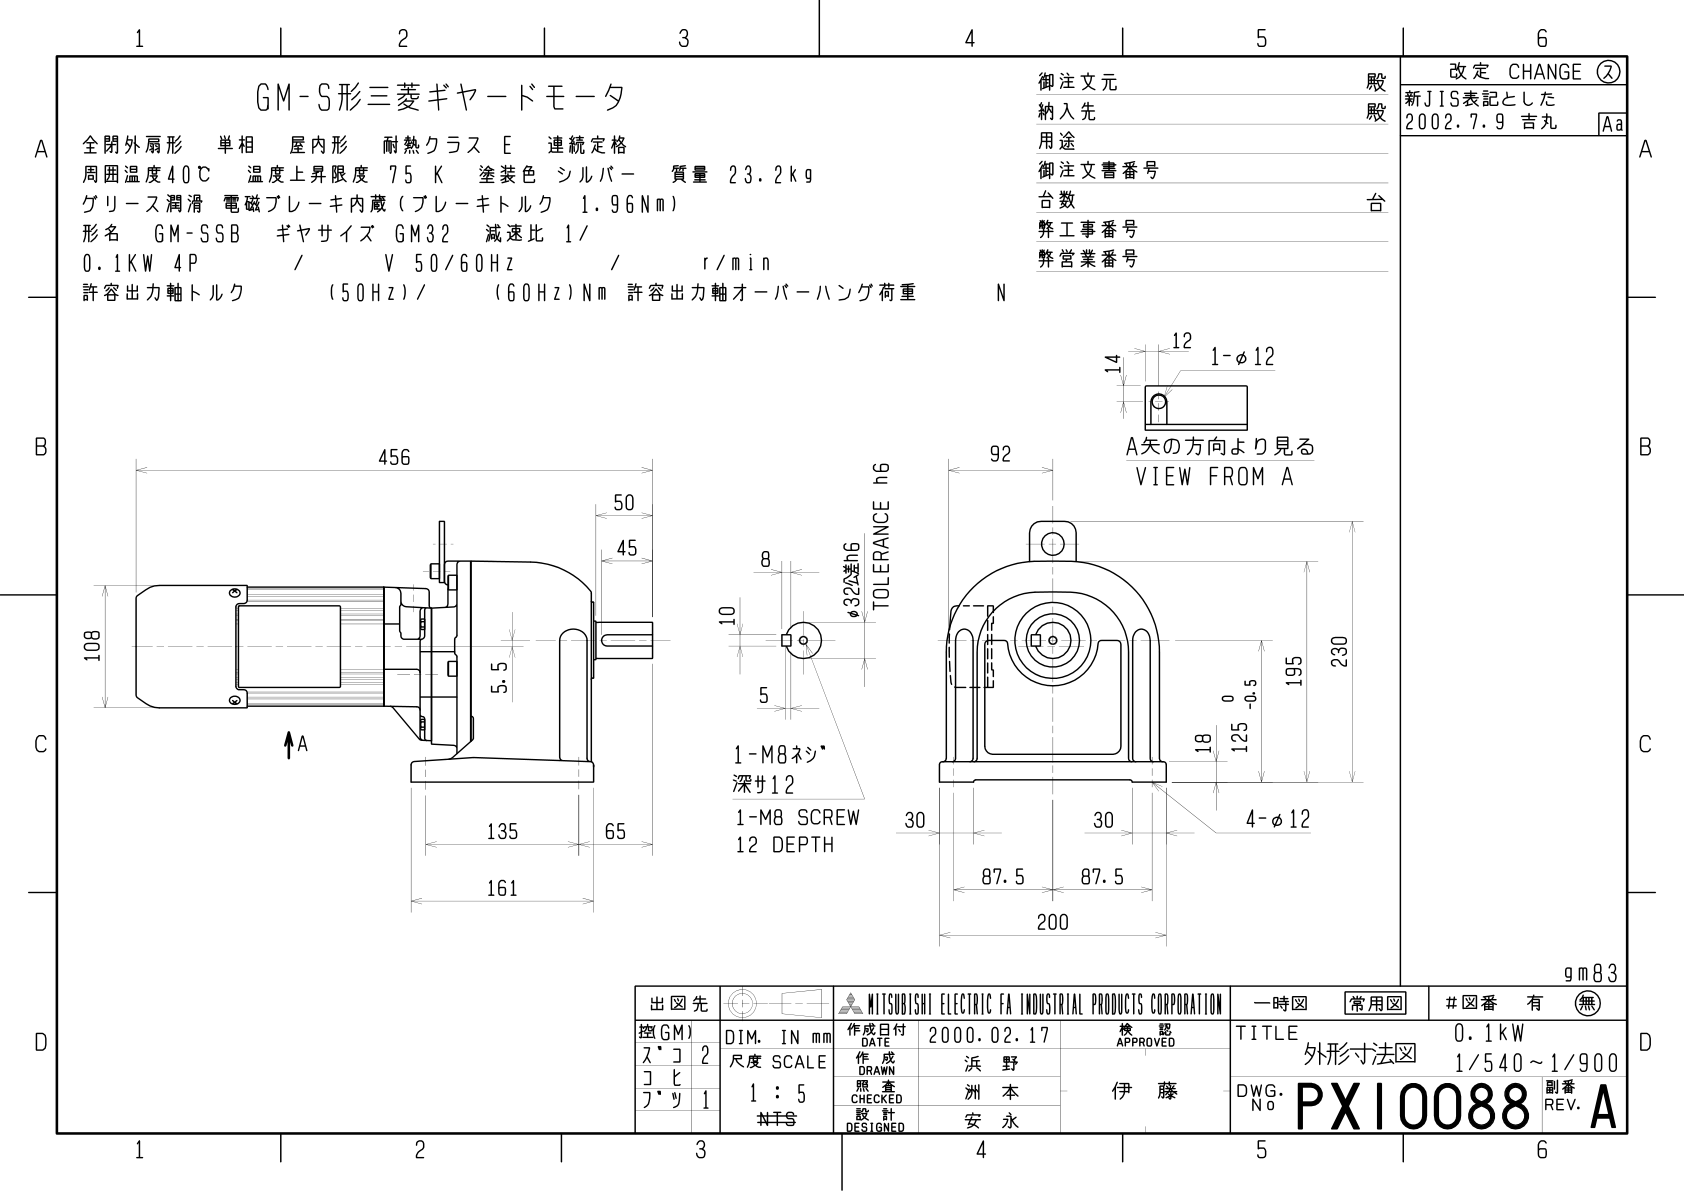GM_S_屋内＿単相_脚: (6, 24, 1684, 1191)
